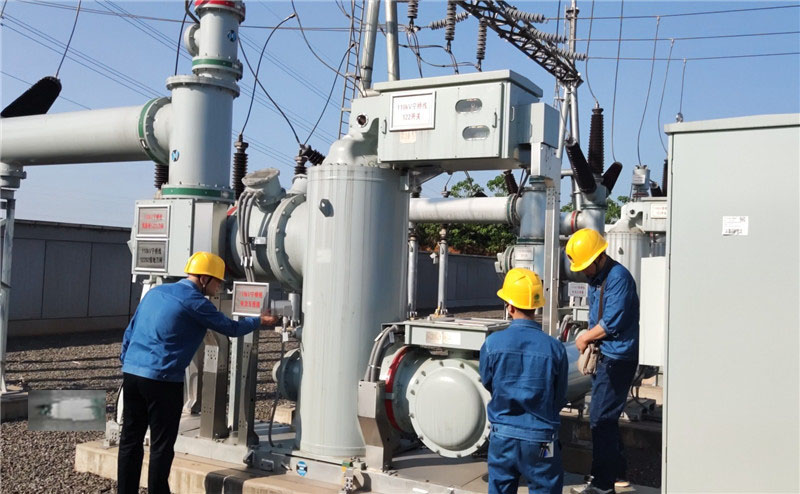oil: (27, 388, 104, 431)
